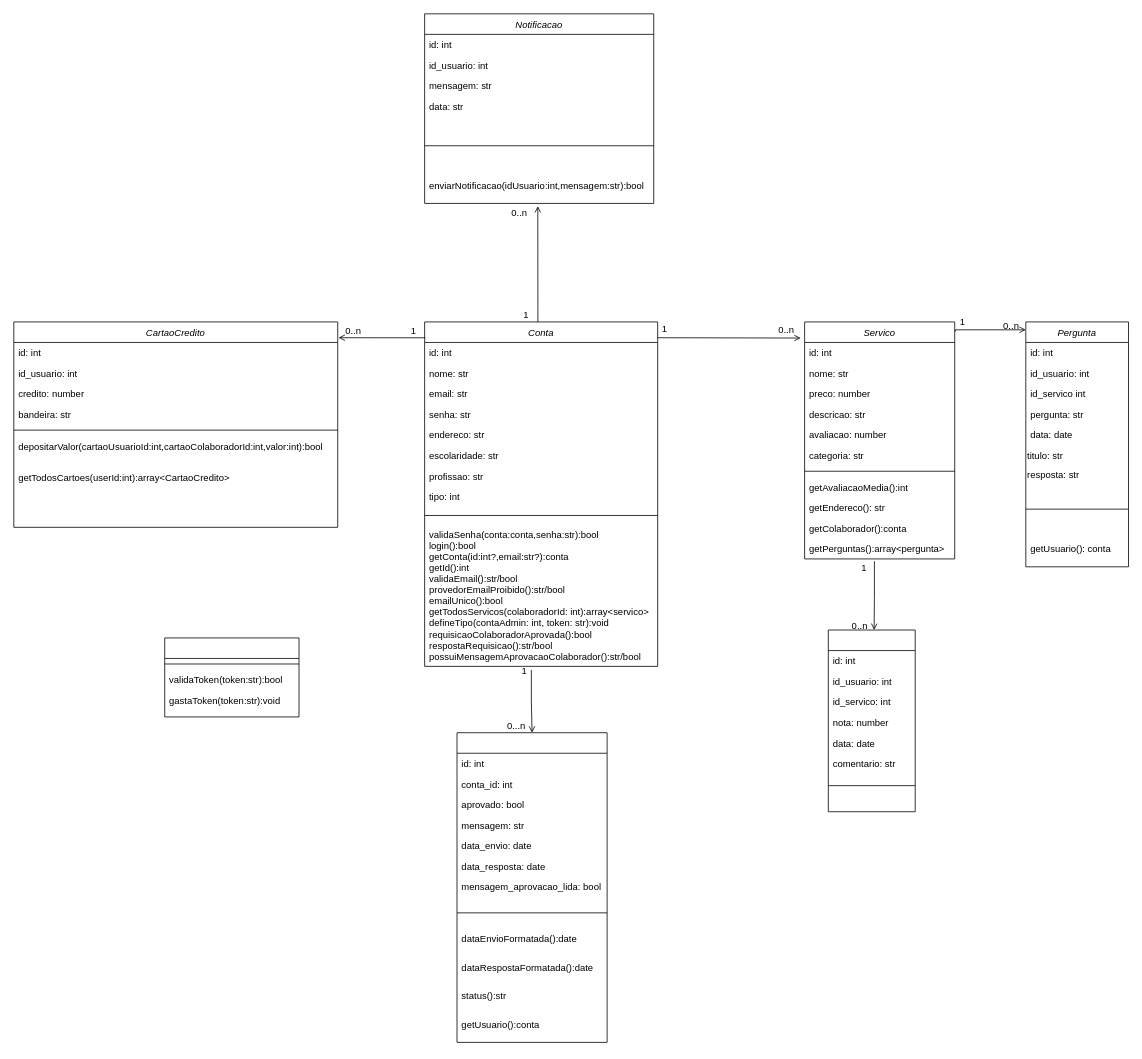
Some shapes in this 1142 by 1059 pixel diagram are drawn without their labels. The shapes that lost their labels are listed below. From the top down, each one's box as (x1, y1, x2, y2) in pixels, then its label:
(164, 637, 299, 717): AdminToken
(828, 629, 915, 812): Avaliacao
(456, 732, 607, 1042): RequisicaoColaborador
